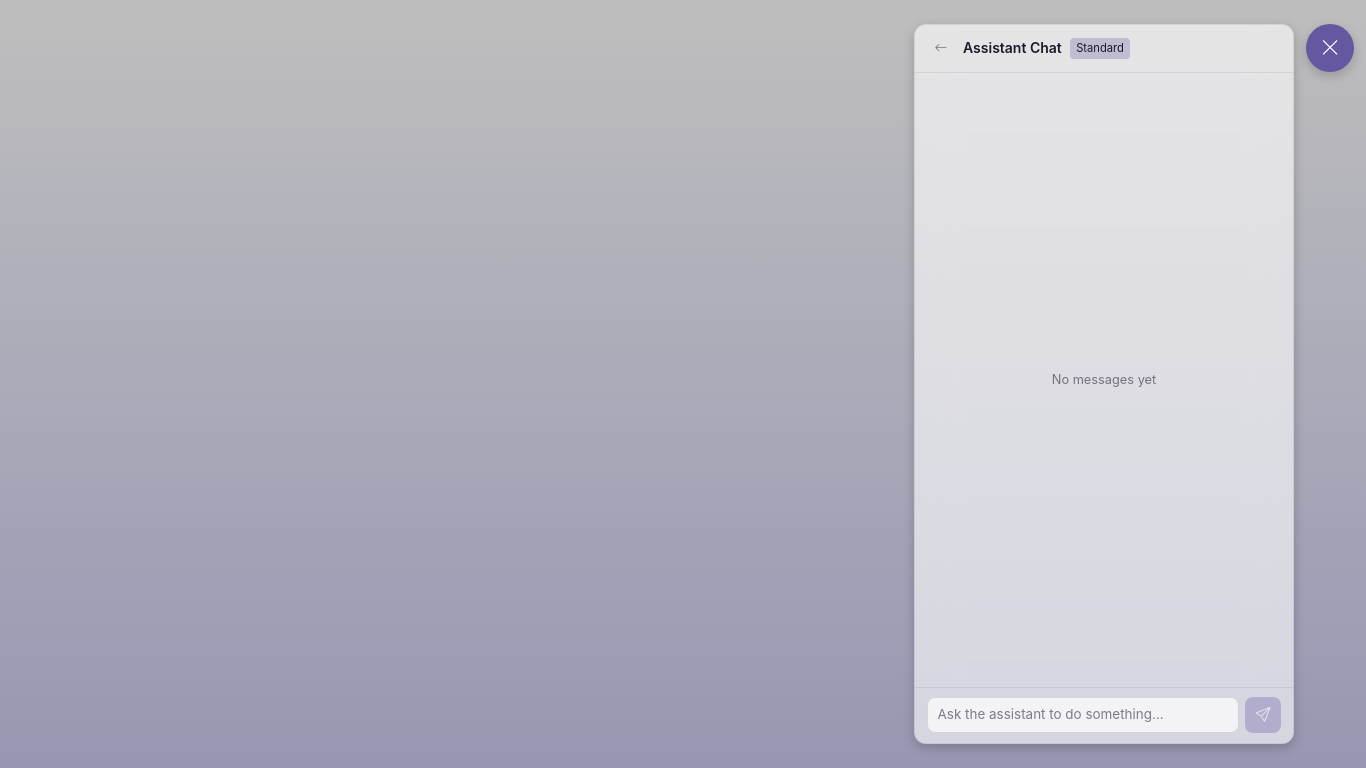
Test: ChatBubble backdrop › collapses the panel when the backdrop is clicked (idle)
Press the mouse on the element with class "chat-bubble-backdrop" at x=683, y=384, box [0,0,1365,767]
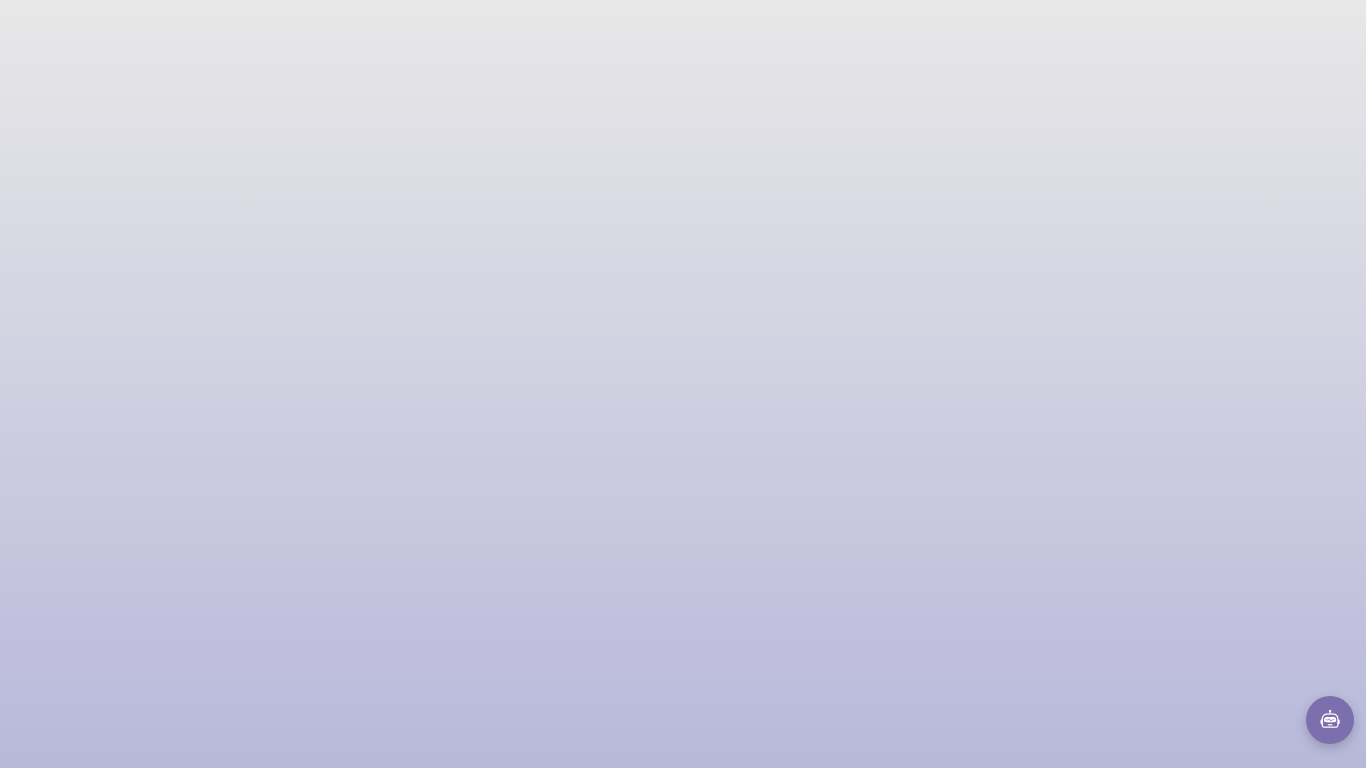
Result: the element with class "chat-bubble-backdrop" is gone
